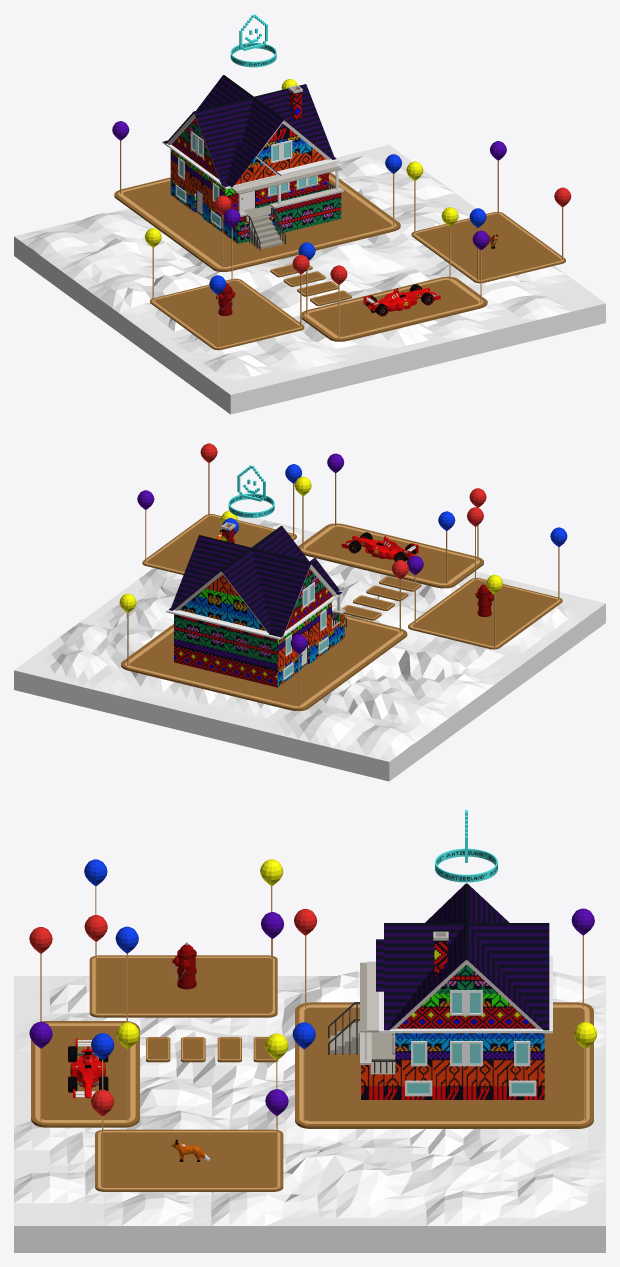
3 views of the same model, one above another, from view 1: azimuth 30°, elevation 25°; view 2: azimuth 150°, elevation 25°; view 3: azimuth 270°, elevation 25° (orthographic). The views are drawn at different scales.
Visible parts, largest first — view 1: Cube.013, Cube.966, VEHICLES_FORMULA_1, TYPE_PREMIUM; view 2: Cube.013, Cube.966, VEHICLES_FORMULA_1, TYPE_PREMIUM, OBJRANDOM_FIRE_HYDRANT; view 3: Cube.013, Cube.966, VEHICLES_FORMULA_1, TYPE_PREMIUM, OBJRANDOM_FIRE_HYDRANT.
Part boxes in pixels (<box>): Cube.013: <box>14,79,605,414</box>; Cube.966: <box>162,75,343,250</box>; VEHICLES_FORMULA_1: <box>363,284,440,316</box>; TYPE_PREMIUM: <box>230,14,276,67</box>; Cube.013: <box>14,443,605,781</box>; Cube.966: <box>166,522,346,687</box>; VEHICLES_FORMULA_1: <box>341,532,418,561</box>; TYPE_PREMIUM: <box>228,465,274,517</box>; OBJRANDOM_FIRE_HYDRANT: <box>475,583,493,616</box>; Cube.013: <box>14,859,605,1252</box>; Cube.966: <box>328,883,552,1099</box>; VEHICLES_FORMULA_1: <box>68,1038,108,1098</box>; TYPE_PREMIUM: <box>435,810,497,882</box>; OBJRANDOM_FIRE_HYDRANT: <box>172,942,196,989</box>.
Size of the model in its own units: 4000 by 2451 by 4000.
Materials: 40 (6 with a texture image).
